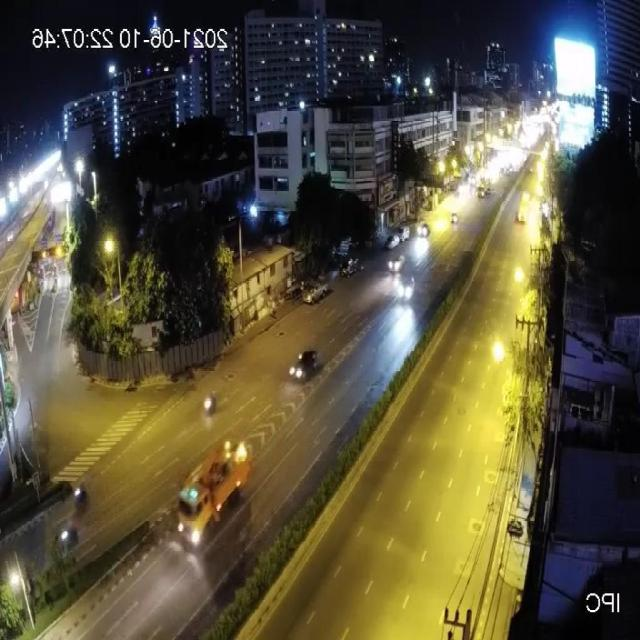Car: (288, 345, 323, 382), (397, 272, 417, 302), (386, 251, 407, 274), (417, 223, 431, 236), (448, 214, 458, 224)
Cycle: (204, 386, 217, 422)
Truck: (177, 438, 249, 545), (517, 192, 531, 223)
